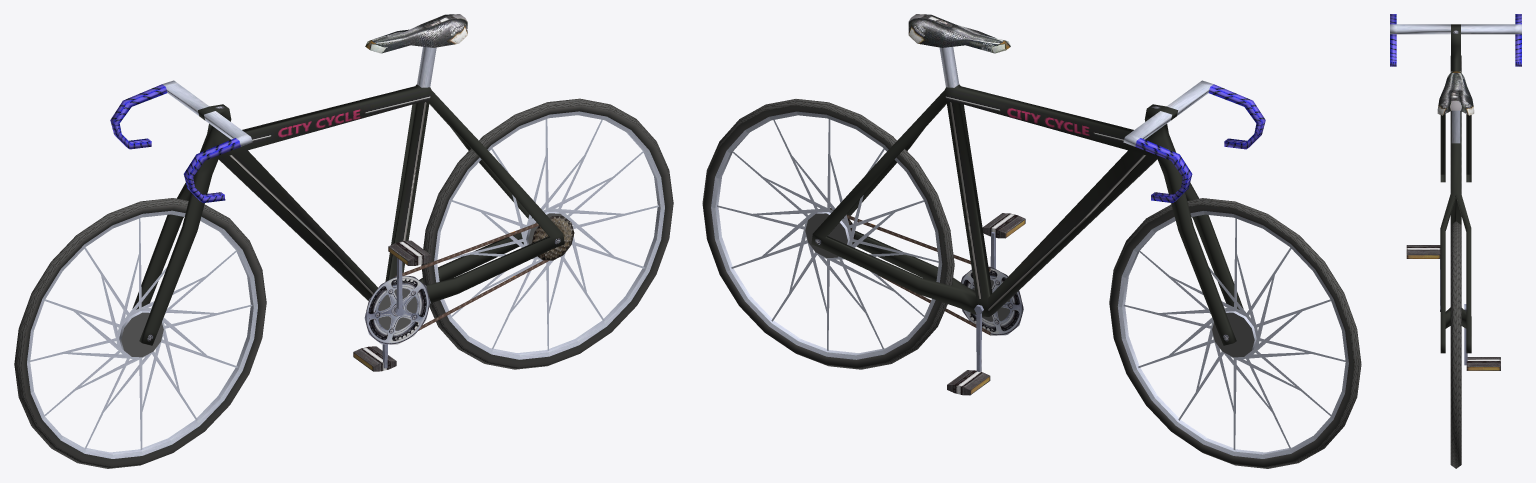
File: UDC_BycicleBlack.obj
3 renders of one model, left to right at view 1: azimuth 30°, elevation 25°; view 2: azimuth 150°, elevation 25°; view 3: azimuth 270°, elevation 25°, orthographic. The views are drawn at different scales.
Parts seen in each view (by area): view 1: UDC_BycicleBlack; view 2: UDC_BycicleBlack; view 3: UDC_BycicleBlack.
Part boxes in pixels (left/top/right/bottom): UDC_BycicleBlack: left=14, top=14, right=673, bottom=468; UDC_BycicleBlack: left=702, top=14, right=1361, bottom=468; UDC_BycicleBlack: left=1390, top=14, right=1521, bottom=468.
Bounding box in the file's own units: 0.6685 × 0.3616 × 0.1357.
1 material, 1 textured.
